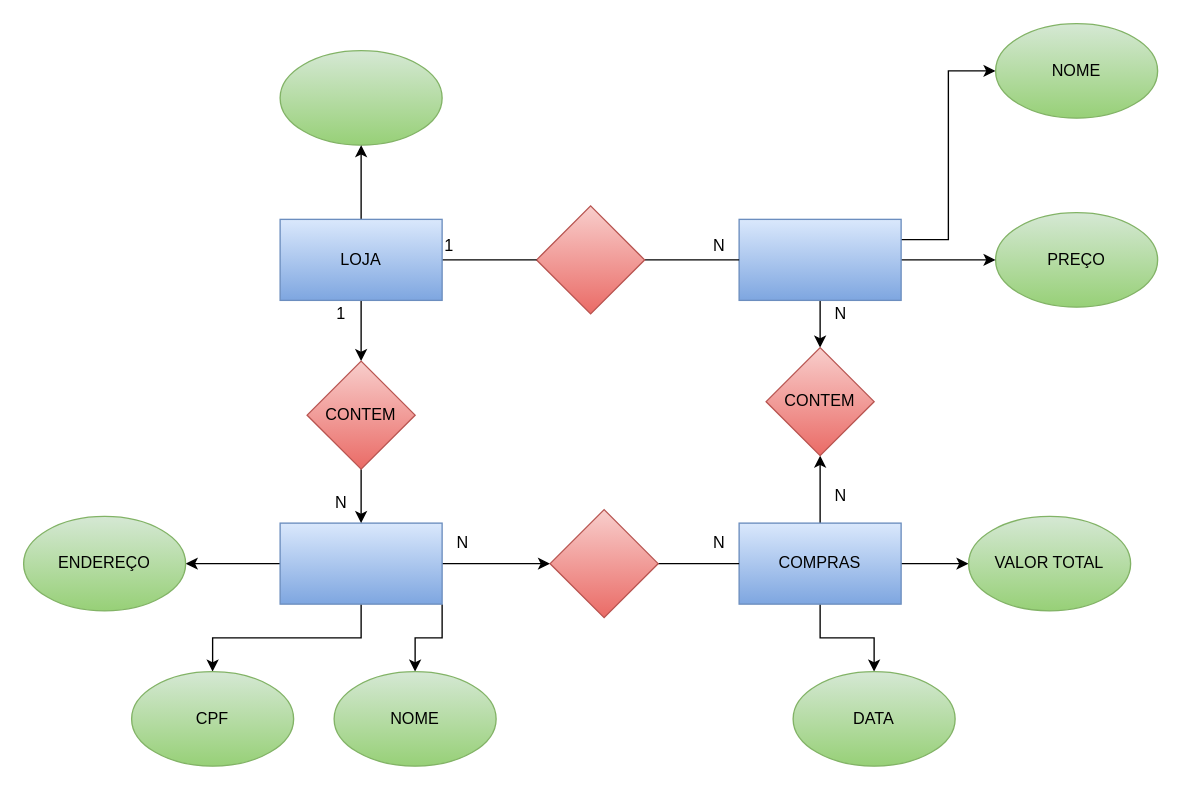
Image size: 1181x790. Some labels were removed from this diagram. The box of each missing label's shape, as (x1, y1, x2, y2) in pixels:
CLIENTES: (279, 522, 442, 604)
FAZEM: (549, 508, 658, 618)
PRODUTO: (738, 218, 901, 300)
QUANTIDADE EM ESTOQUE: (279, 49, 442, 145)
VENDE: (535, 205, 645, 314)
